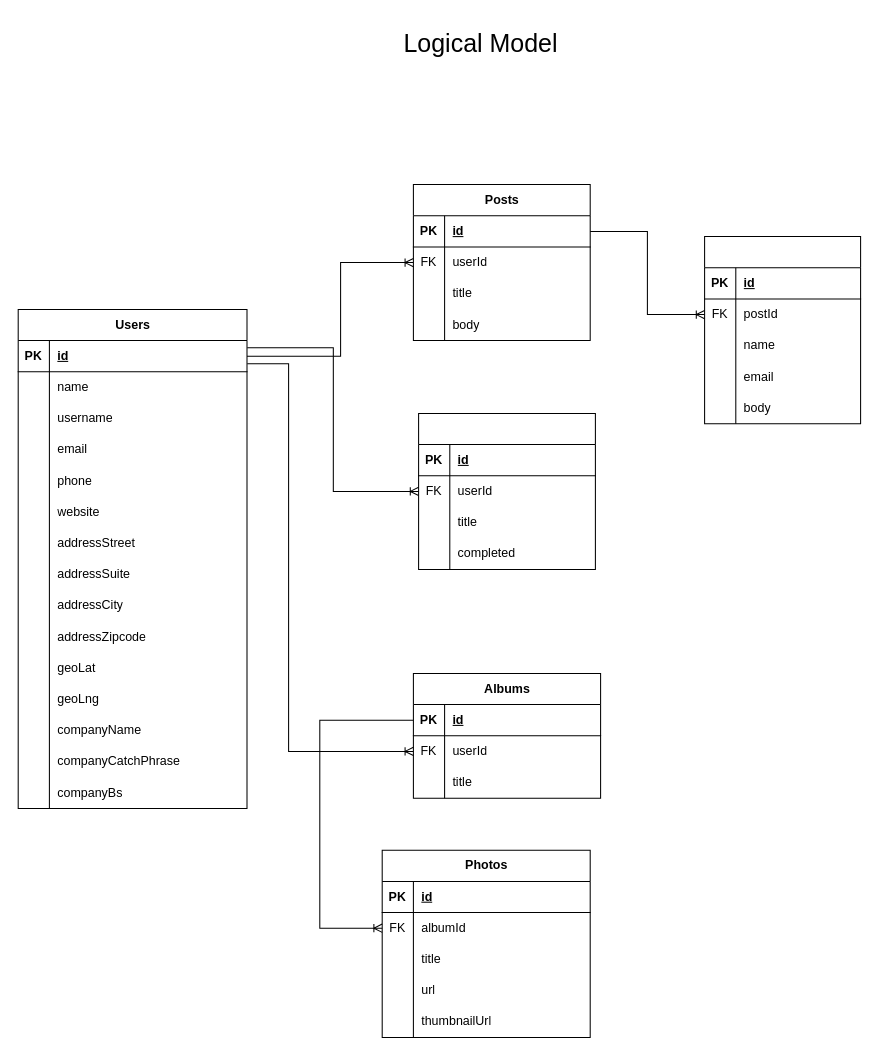
This 879x1056 diagram has some shape labels left out. Each missing label, with the box of its shape:
Comments: (704, 236, 861, 424)
Todos: (418, 412, 595, 569)
